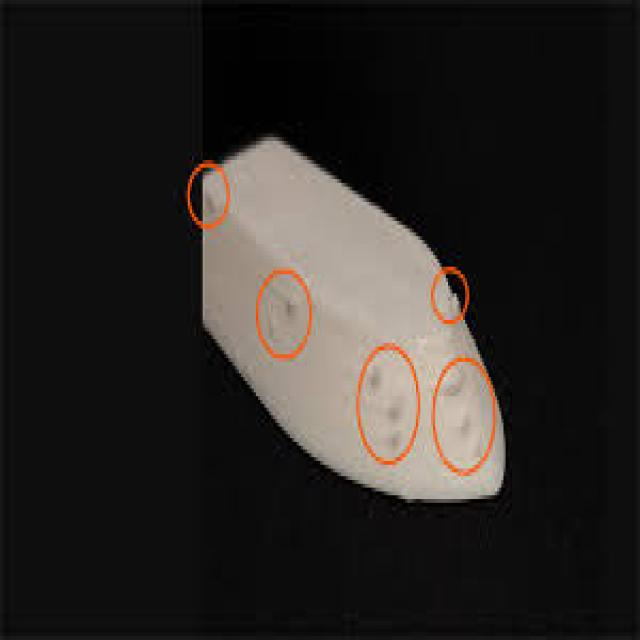blobs: (440, 370, 491, 466), (367, 361, 411, 463), (264, 287, 295, 343), (201, 182, 229, 222)
